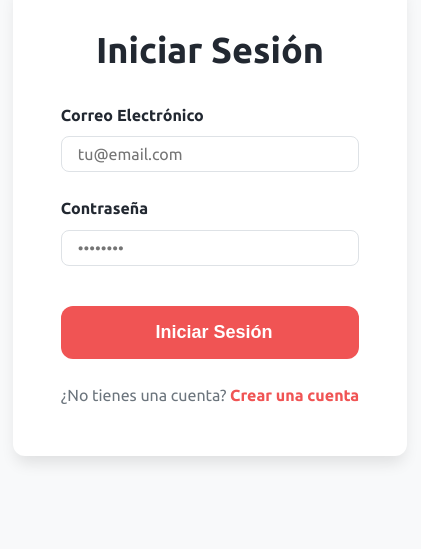
Test: LoginPage › ✓ debe mostrar mensaje de error cuando el login falla
The image size is (421, 549).
Type "wrong@email.com" into the field labelled "Correo Electrónico" at (210, 154), box [61,136,359,172]
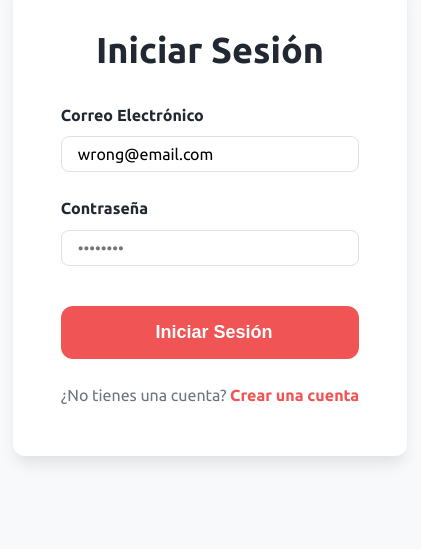
Type "wrongpass" into the password field labelled "Contraseña" at (210, 248), box [61,230,359,266]
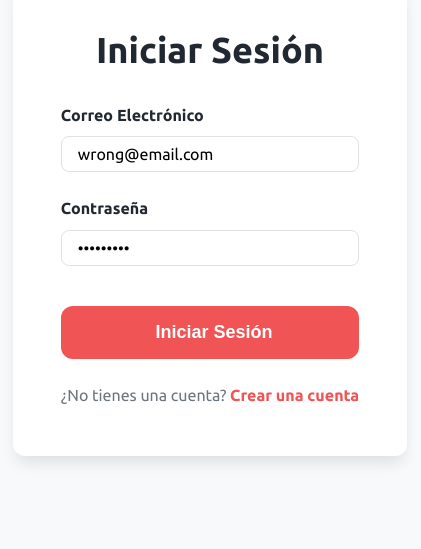
Click the button "Iniciar Sesión" at (210, 332), box [61,306,359,359]
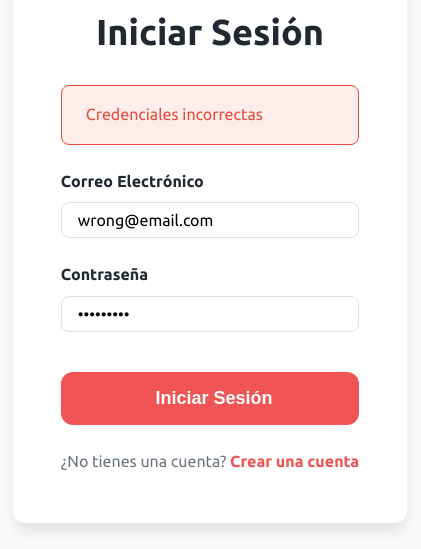
Expected: the text "Credenciales incorrectas" is shown, [61,85,359,145]
